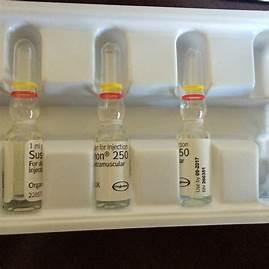Syringe: (89, 30, 139, 216), (3, 31, 50, 218), (172, 26, 218, 210)
